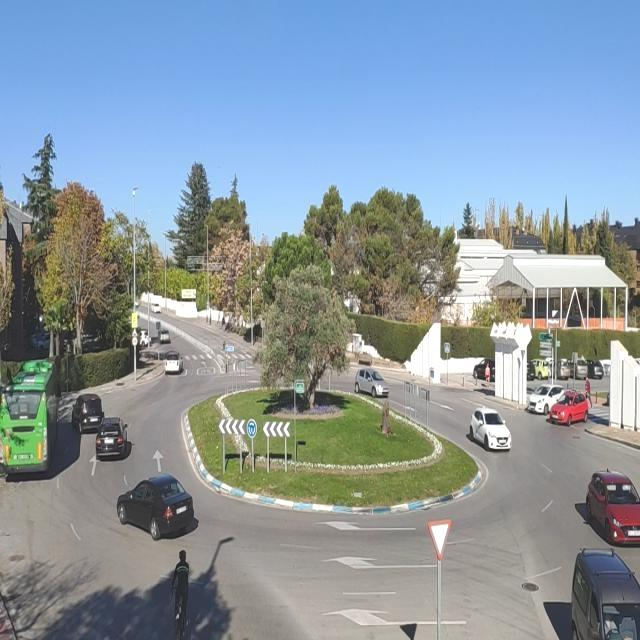Bus: (0, 358, 62, 477)
Car: (569, 548, 640, 640), (116, 474, 194, 540), (585, 471, 640, 546), (469, 407, 512, 451), (548, 390, 590, 426), (95, 416, 128, 458), (526, 384, 568, 414), (71, 394, 103, 433), (353, 368, 388, 398), (473, 358, 496, 381), (564, 358, 588, 380), (530, 358, 552, 381), (164, 351, 184, 374), (30, 331, 50, 351), (552, 359, 571, 380), (584, 360, 604, 379), (138, 330, 150, 347), (527, 359, 535, 380), (160, 329, 170, 343), (152, 303, 161, 314)
Cycle: (168, 581, 192, 640)
